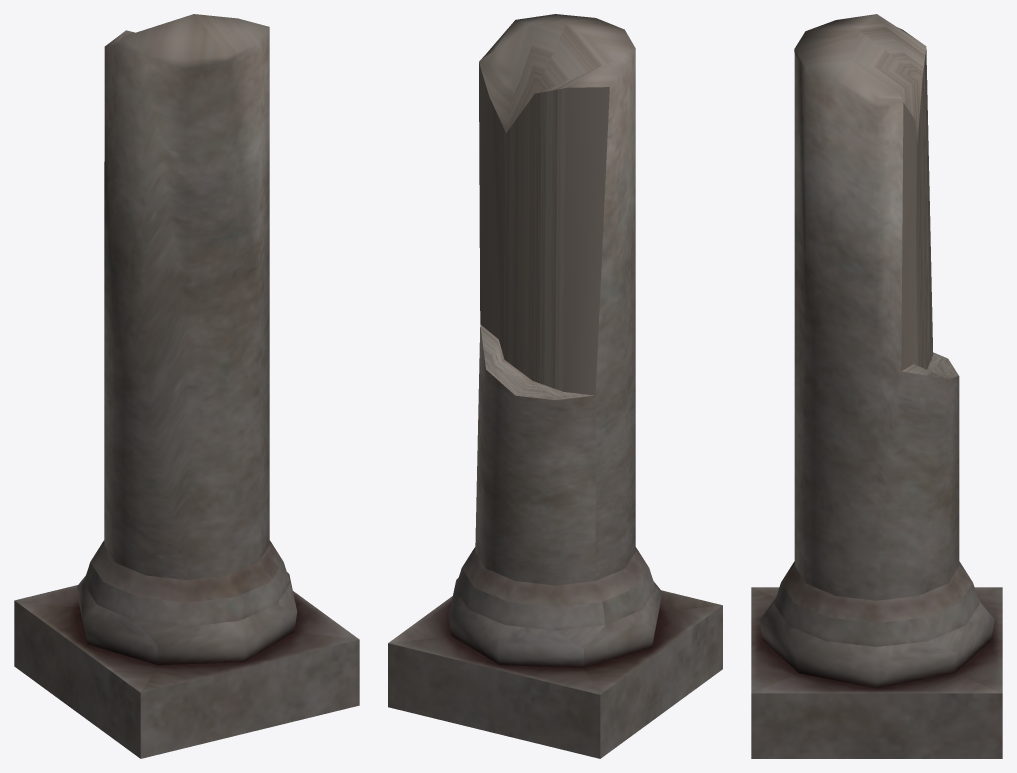
Rendered from sb_obj_outdoor009_AncientTemple_pillar03C_col.fbx.
The picture shows the model from 3 angles, left to right: view 1: azimuth 30°, elevation 25°; view 2: azimuth 150°, elevation 25°; view 3: azimuth 270°, elevation 25°; orthographic projection. The views are drawn at different scales.
Parts seen in each view (by area): view 1: sb_obj_outdoor009_AncientTemple_pillar03C_col; view 2: sb_obj_outdoor009_AncientTemple_pillar03C_col; view 3: sb_obj_outdoor009_AncientTemple_pillar03C_col.
Boxes of the visible parts, x1,y1,x2,y2 form: sb_obj_outdoor009_AncientTemple_pillar03C_col: (14, 14, 359, 758); sb_obj_outdoor009_AncientTemple_pillar03C_col: (388, 14, 722, 758); sb_obj_outdoor009_AncientTemple_pillar03C_col: (751, 14, 1002, 758).
Bounding box in the file's own units: 1.04 × 3.09 × 1.04.
